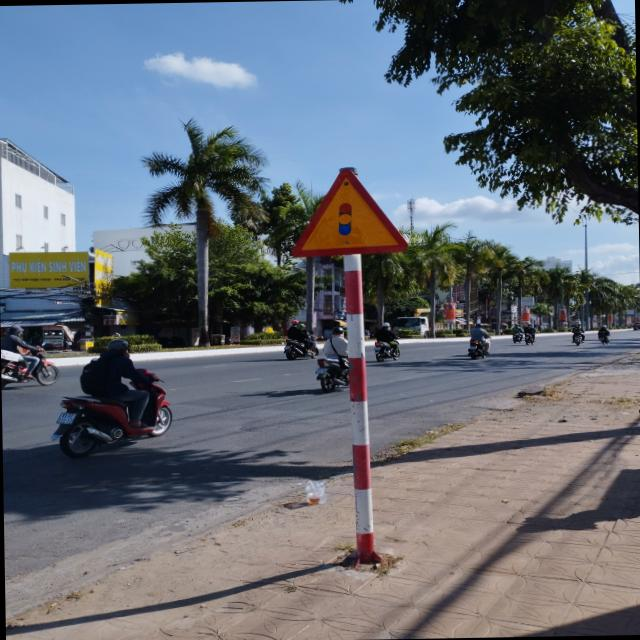Duong_Co_Go_Giam_Toc: (290, 165, 408, 258)
